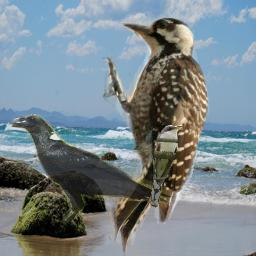Crow: (8, 114, 173, 226)
Cuckoo: (150, 125, 183, 208)
Woodpecker: (100, 11, 210, 256)
